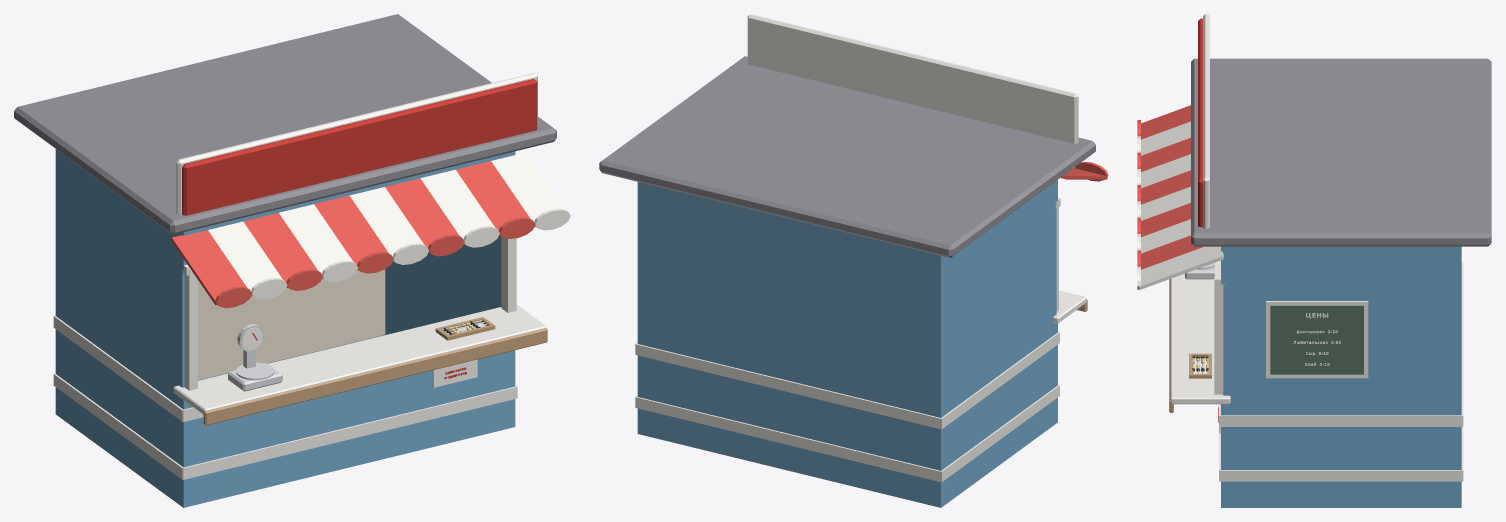
File: kiosk.glb
3 views of the same model, side by side, from view 1: azimuth 30°, elevation 25°; view 2: azimuth 150°, elevation 25°; view 3: azimuth 270°, elevation 25° (orthographic). The views are drawn at different scales.
Parts seen in each view (by area): view 1: kiosk; view 2: kiosk; view 3: kiosk.
Part boxes in pixels (x1,y1,x2,y2): kiosk: (14, 14, 570, 507); kiosk: (599, 14, 1108, 507); kiosk: (1137, 14, 1491, 507).
Bounding box in the file's own units: 3.5 × 3.08 × 2.94.
